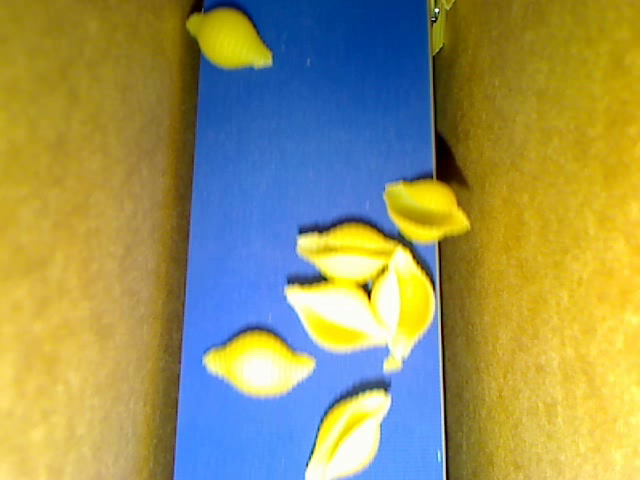penne: (430, 1, 446, 61), (439, 1, 456, 13)
shell: (200, 327, 317, 401), (299, 388, 393, 479), (368, 245, 436, 360), (282, 283, 392, 353), (295, 219, 404, 283), (381, 177, 472, 249), (185, 8, 277, 71)
